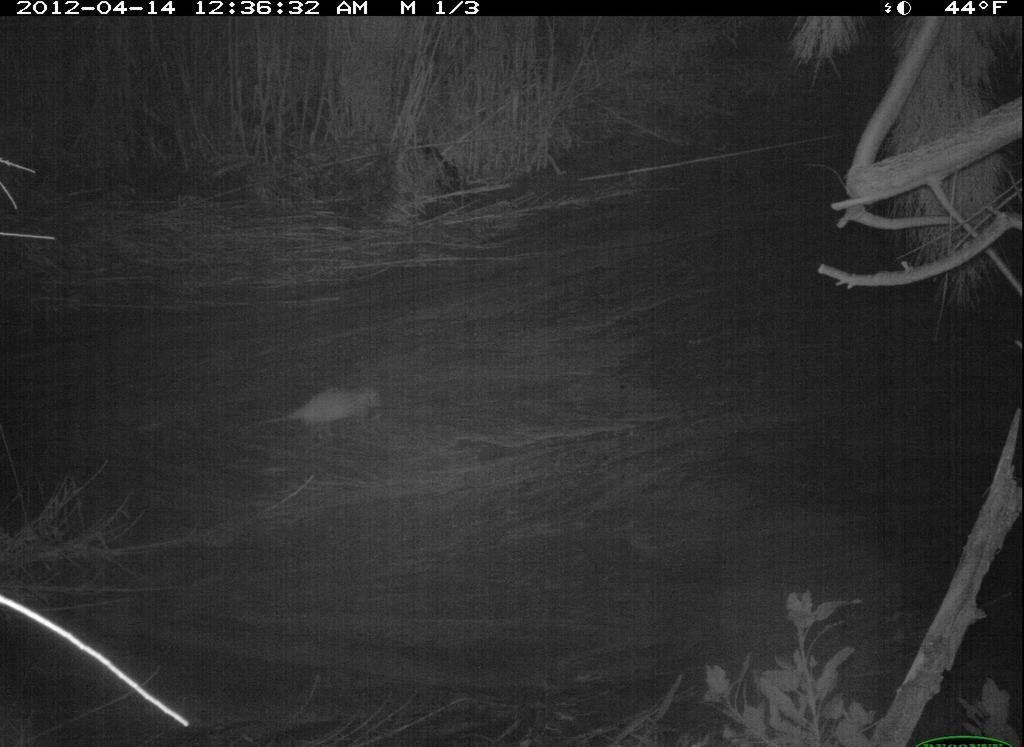opossum: (249, 382, 392, 441)
